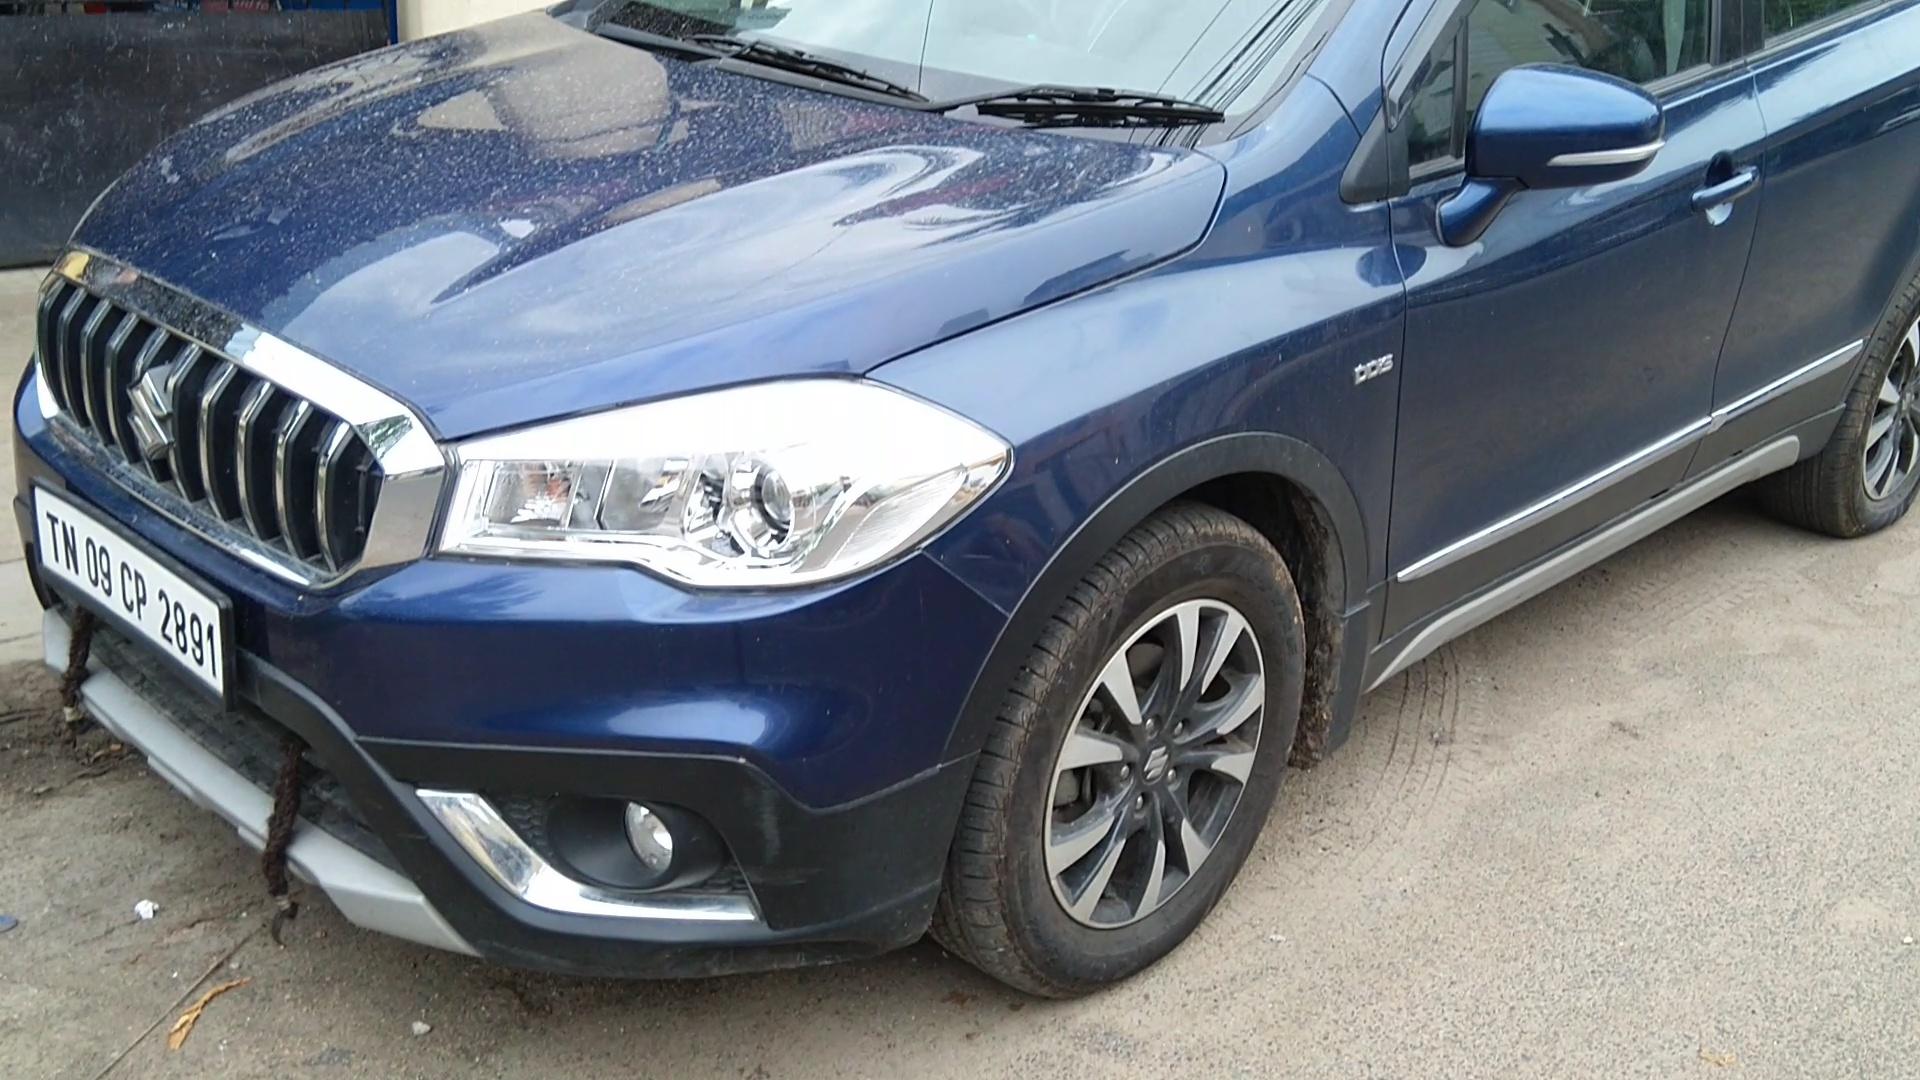alloy_wheel: (957, 498, 1303, 1005)
front_grill: (53, 219, 423, 608)
headlamp: (423, 355, 1011, 596)
ovr_mirror: (1458, 46, 1664, 211)
